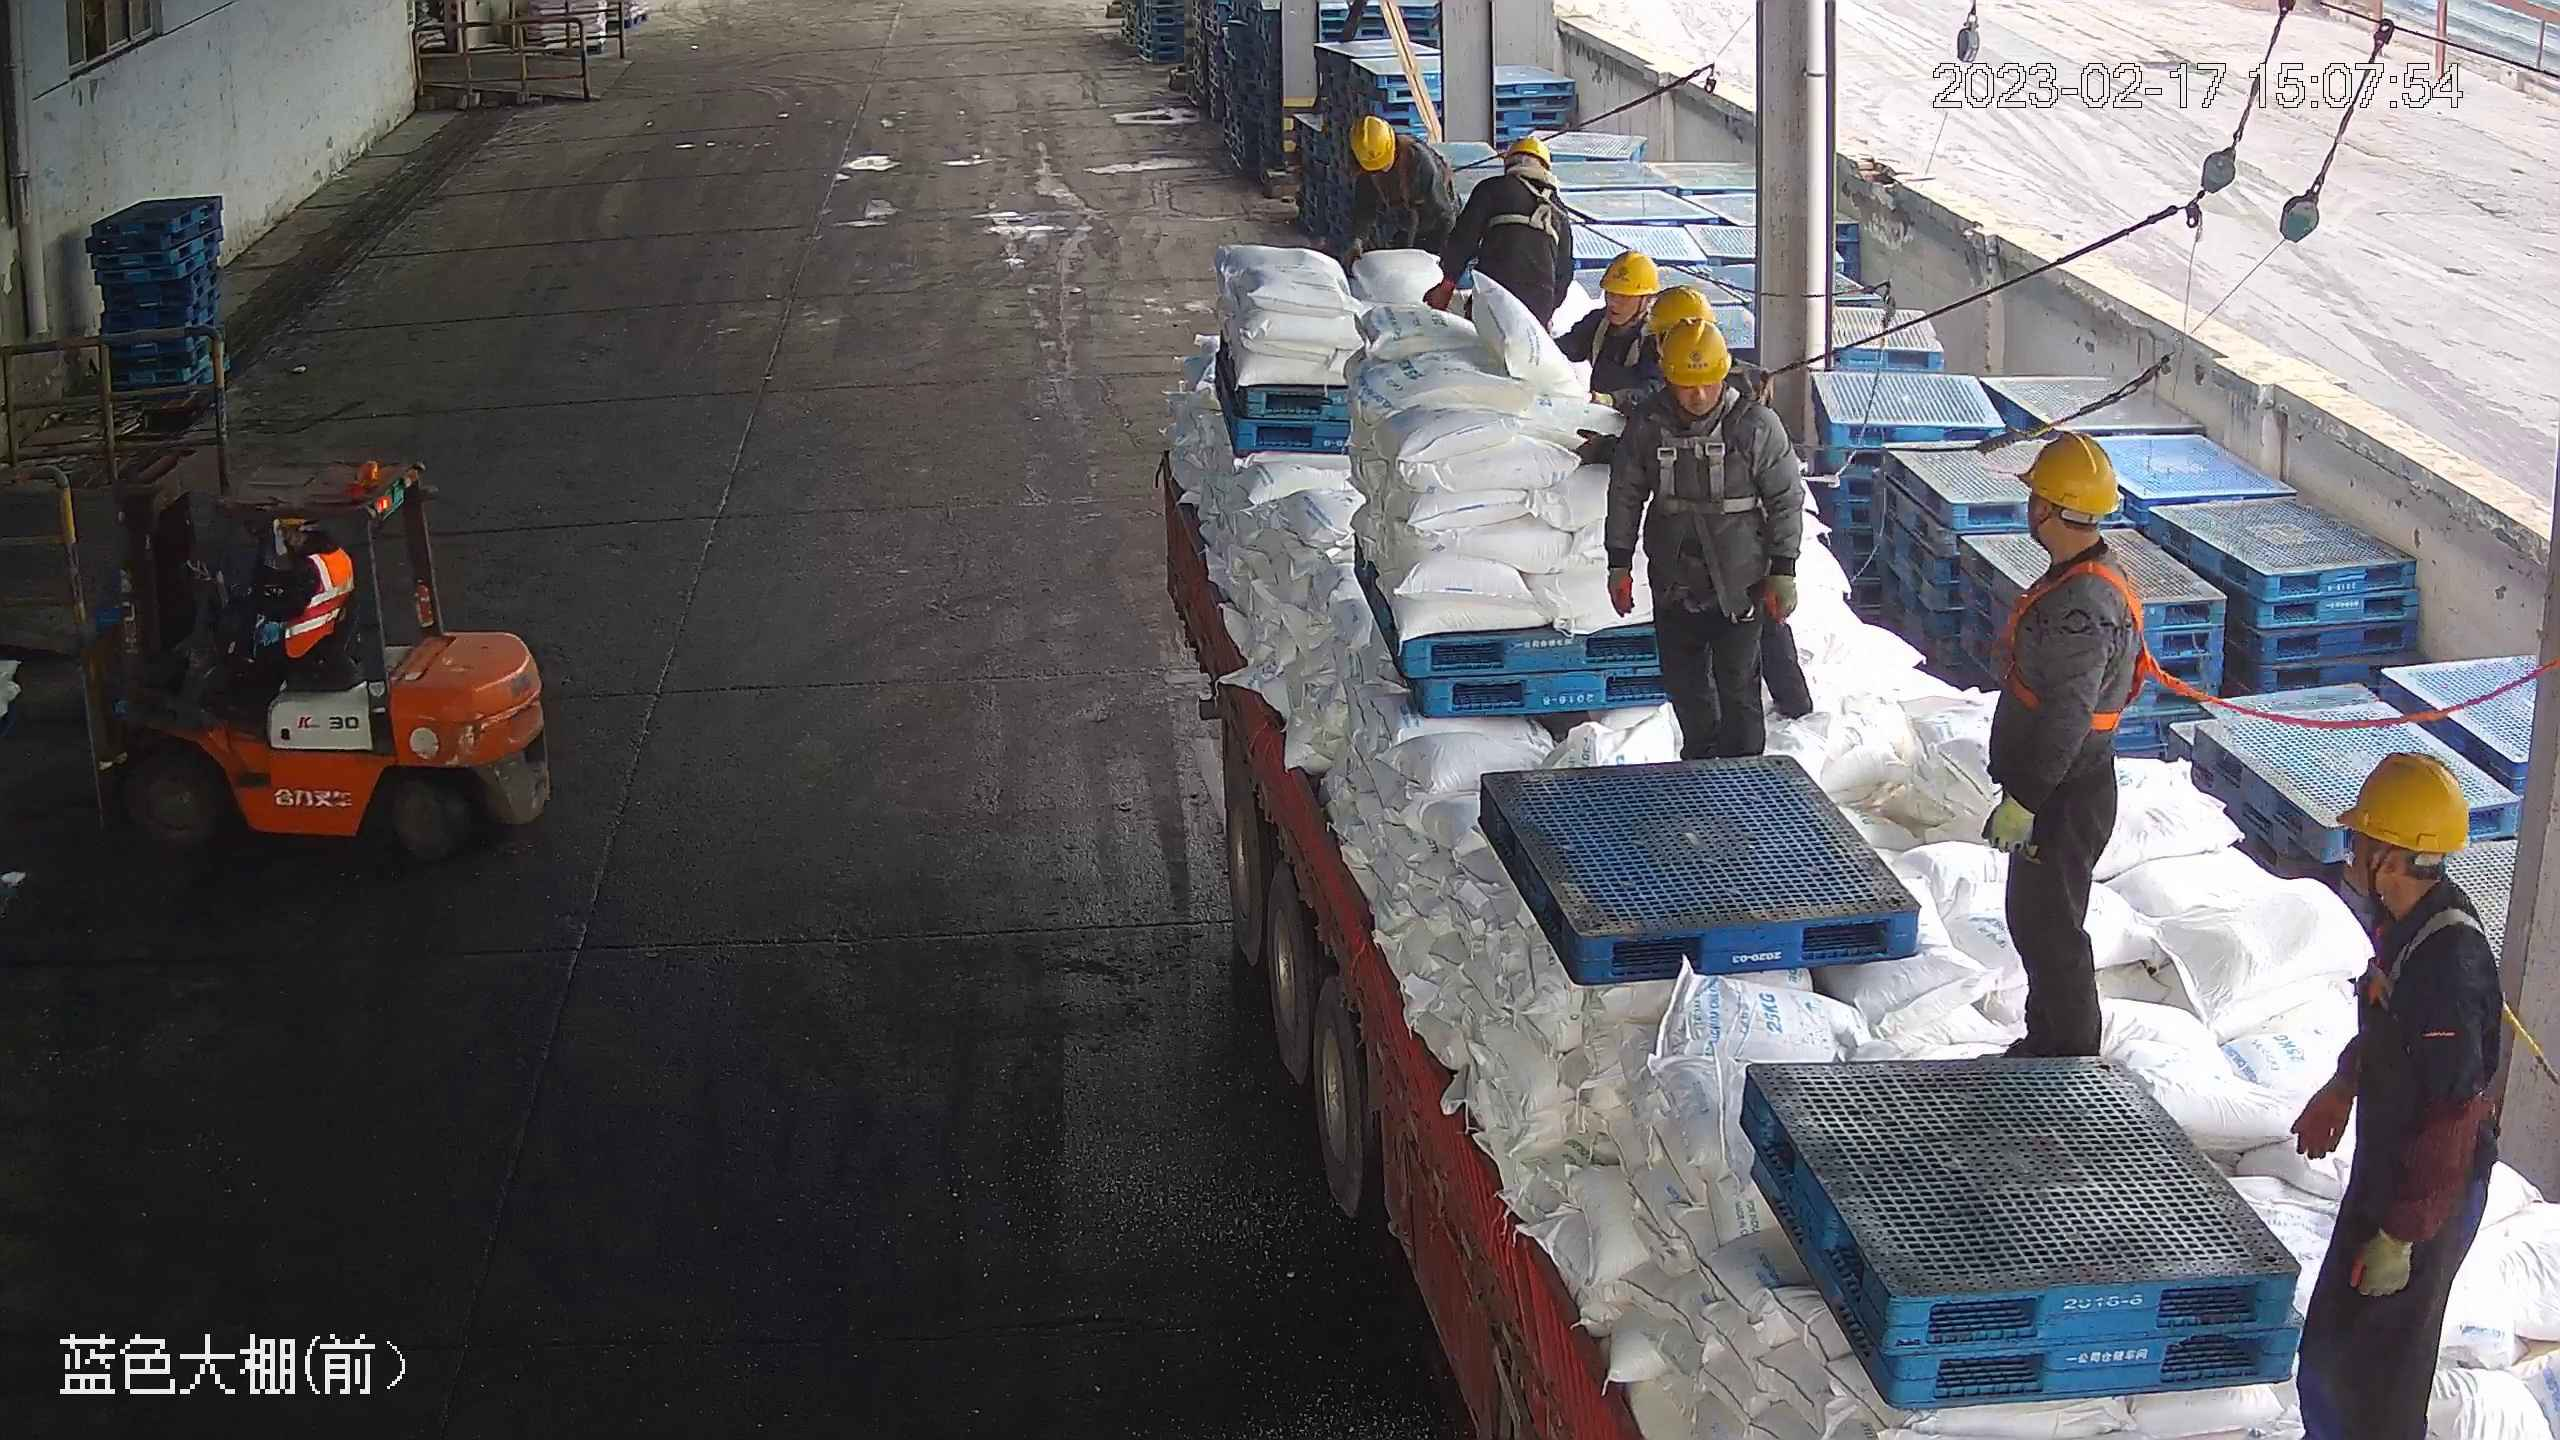head: (2317, 754, 2498, 1011), (1979, 432, 2139, 637), (1623, 325, 1783, 493), (1571, 250, 1664, 357), (1349, 117, 1449, 215), (1471, 132, 1564, 225)
helmet: (2334, 747, 2473, 864), (2015, 432, 2122, 520), (1661, 320, 1730, 386), (1647, 284, 1717, 335), (1596, 254, 1659, 296), (1351, 118, 1398, 169), (1503, 137, 1552, 172)
people: (2283, 747, 2506, 1440), (1981, 432, 2154, 1069), (1606, 322, 1806, 771), (196, 515, 351, 711), (1420, 137, 1578, 330), (1340, 113, 1466, 269)
truck: (1159, 403, 2560, 1440)
